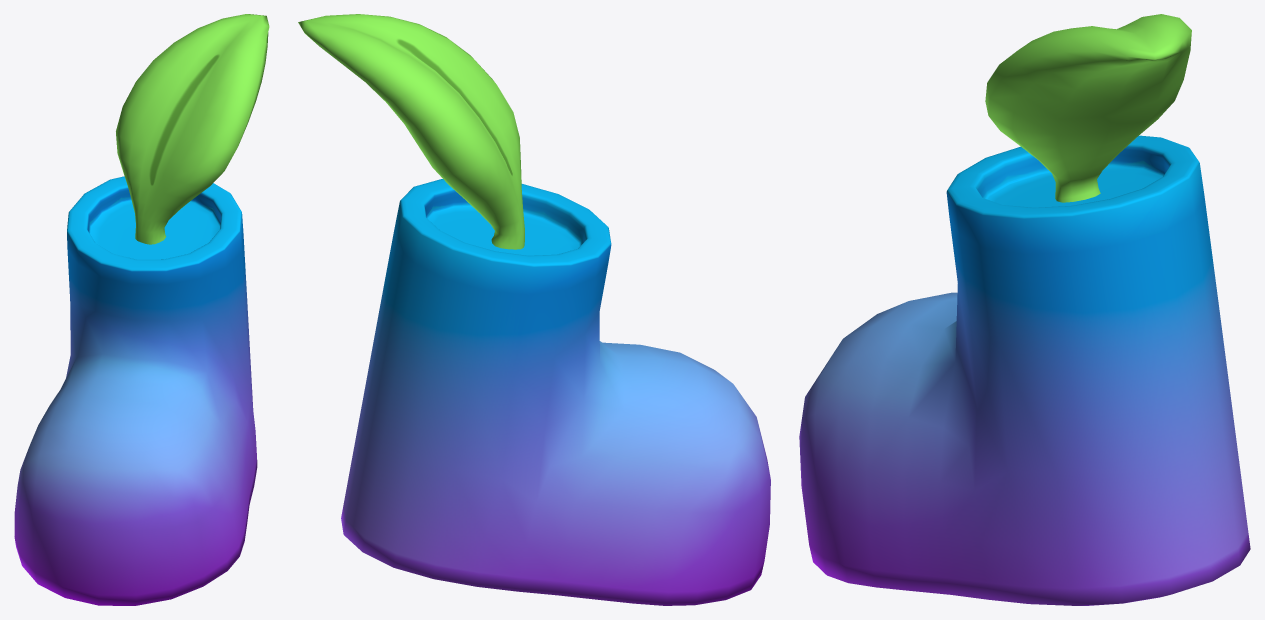
File: MS_Berry.fbx
The picture shows the model from 3 angles, left to right: view 1: azimuth 30°, elevation 25°; view 2: azimuth 150°, elevation 25°; view 3: azimuth 270°, elevation 25°; orthographic projection. The views are drawn at different scales.
Parts seen in each view (by area): view 1: MS_Berry; view 2: MS_Berry; view 3: MS_Berry.
Boxes of the visible parts, x1,y1,x2,y2 form: MS_Berry: [14, 14, 269, 605]; MS_Berry: [298, 14, 770, 605]; MS_Berry: [799, 14, 1250, 605].
Bounding box in the file's own units: 45.39 × 63.94 × 40.29.
